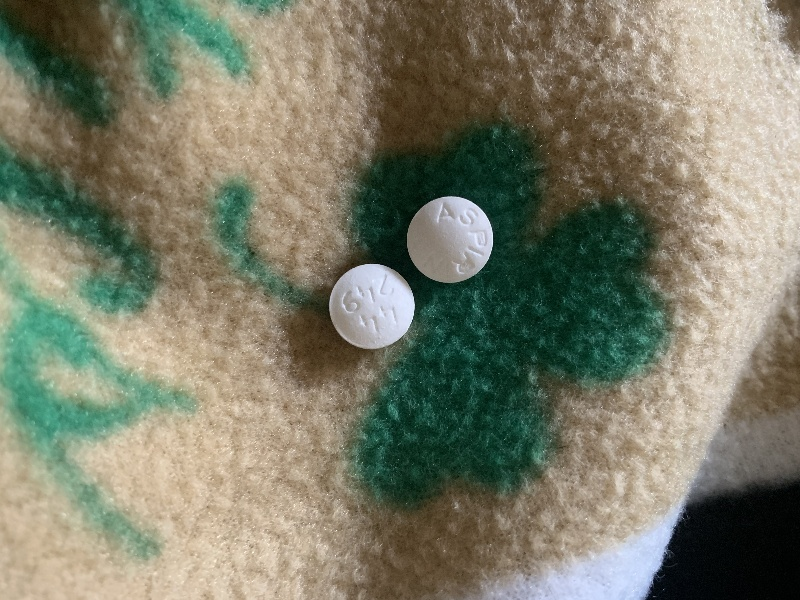Aspirin: (404, 191, 501, 285), (327, 262, 417, 354)
